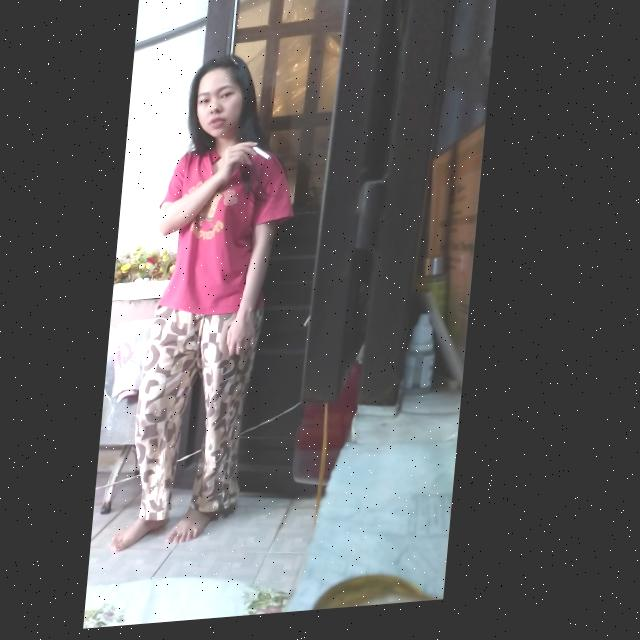cigarette: (255, 151, 277, 166)
